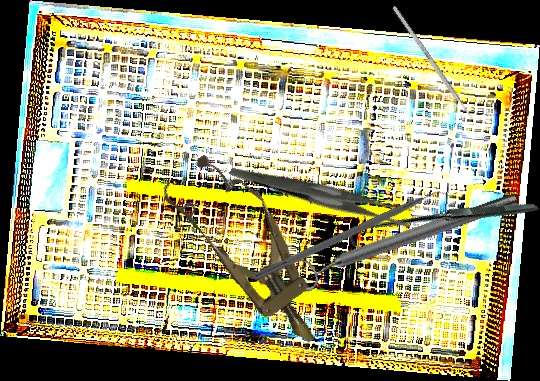Chopper: (254, 182, 457, 291)
Dressing Forceps: (228, 115, 419, 272)
Fixation Ring: (289, 182, 523, 296)
Hook Surgical: (345, 129, 540, 320)
Pusher: (391, 5, 481, 130)
Speculum: (154, 141, 346, 365)
